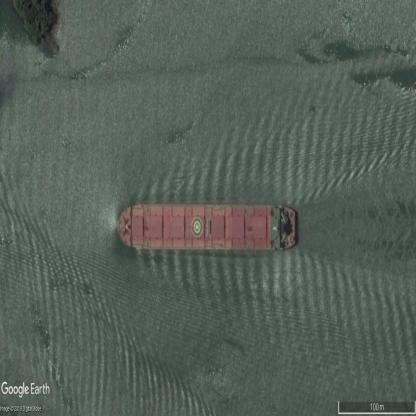ship: (118, 204, 297, 250)
